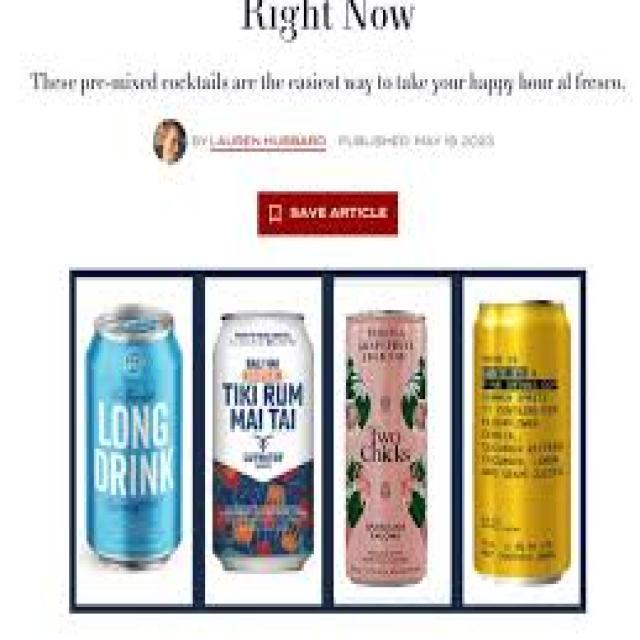Cans: (467, 290, 576, 584), (81, 297, 192, 577), (208, 304, 318, 578), (338, 303, 435, 594)
